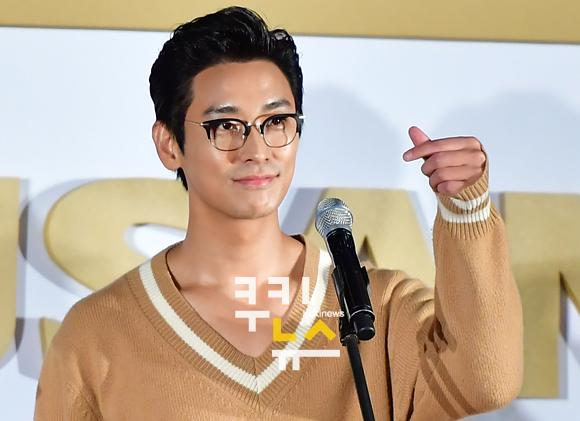heart gesture: (403, 125, 433, 163)
